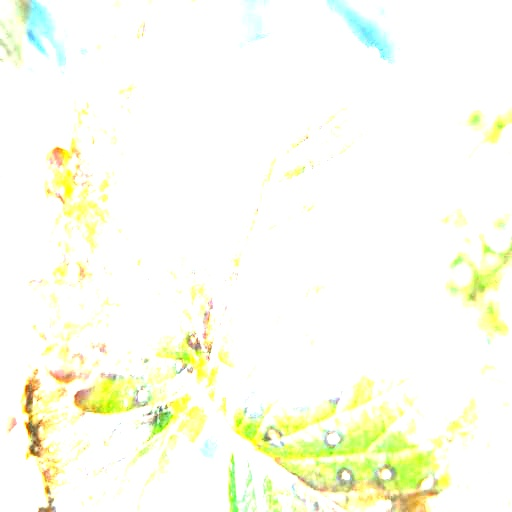Leaf Spot: (15, 8, 444, 415), (224, 291, 489, 511), (8, 344, 221, 511)
